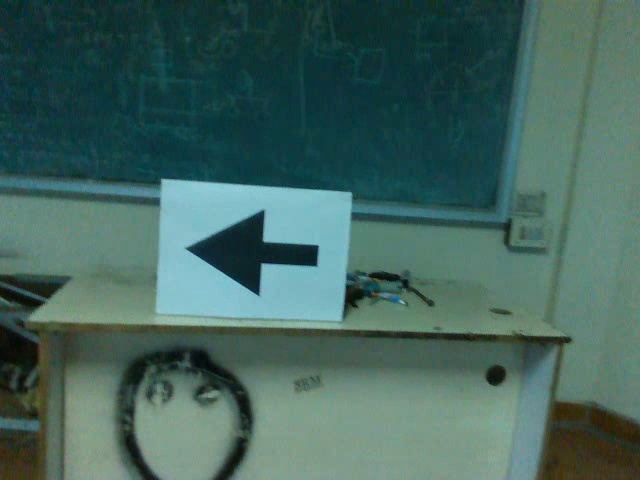Left: (178, 198, 325, 300)
